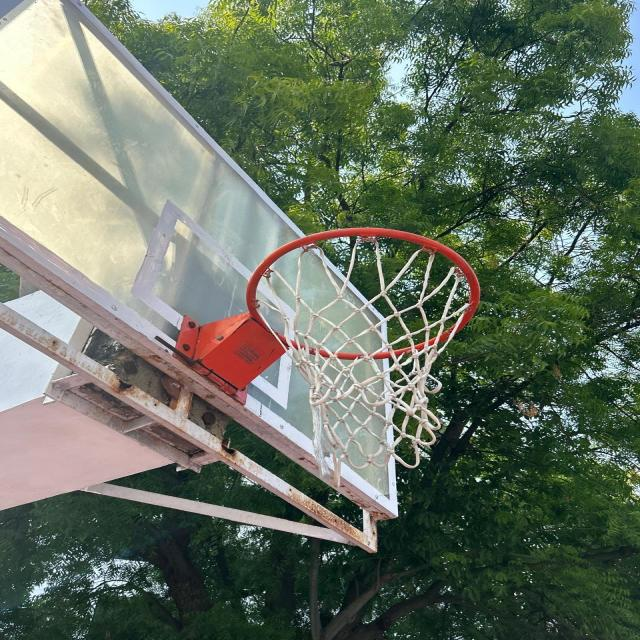hoop: (213, 229, 522, 498)
